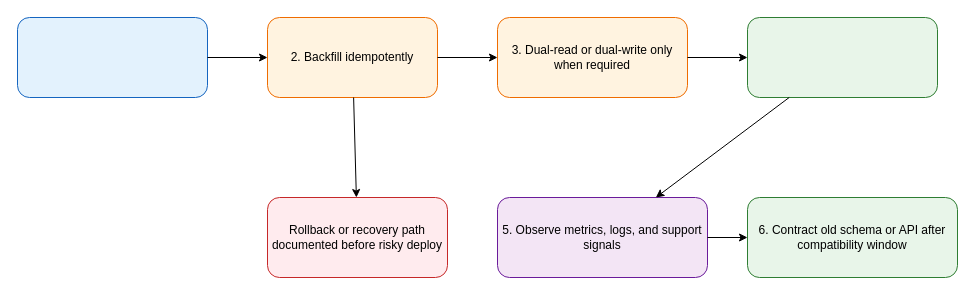
Image size: 975x295. Some labels were removed from this diagram. Here are the shapes that lost their labels. From the top down, the box of each, then its label:
(16, 16, 208, 98): 1. Expand schema add nullable columns or new tables
(746, 16, 938, 98): 4. Switch application reads and writes
